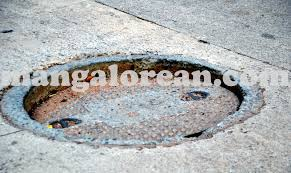Manhole-Closed: (6, 47, 264, 154)
